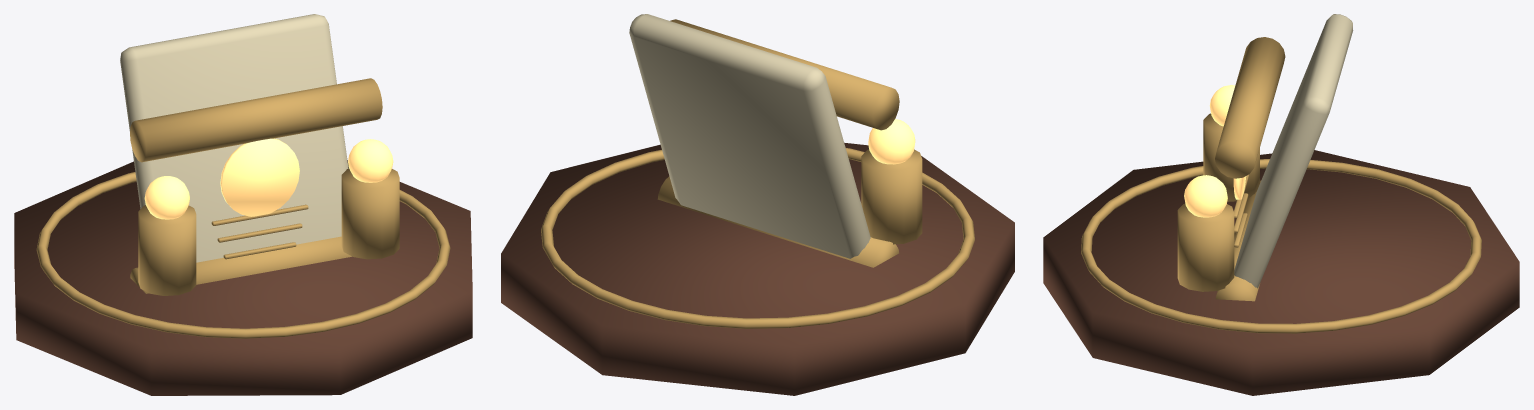
The picture shows the model from 3 angles, left to right: view 1: azimuth 30°, elevation 25°; view 2: azimuth 150°, elevation 25°; view 3: azimuth 270°, elevation 25°; orthographic projection. The views are drawn at different scales.
Parts seen in each view (by area): view 1: Hexagonal plinth, Parchment, Binding.001, Inlaid rim, 3B embossed seal, Tactical token, Tactical token.001, Binding, Tactical head, Tactical head.001, Embossed line, Embossed line.001 (+1 smaller); view 2: Hexagonal plinth, Parchment, Inlaid rim, Tactical token, Binding.001, Tactical head, Binding; view 3: Hexagonal plinth, Parchment, Inlaid rim, Binding.001, Tactical token.001, Tactical token, Tactical head.001, Binding, Tactical head.
Part boxes in pixels (box(x1,y1,x2,y2)): Hexagonal plinth: box(14, 160, 472, 395); Parchment: box(120, 14, 348, 262); Binding.001: box(130, 78, 382, 162); Inlaid rim: box(36, 172, 450, 338); 3B embossed seal: box(220, 138, 299, 216); Tactical token: box(138, 205, 196, 295); Tactical token.001: box(341, 168, 399, 259); Binding: box(130, 236, 351, 293); Tactical head: box(144, 176, 189, 219); Tactical head.001: box(348, 139, 393, 182); Embossed line: box(211, 204, 308, 225); Embossed line.001: box(217, 223, 302, 242); Hexagonal plinth: box(501, 142, 1014, 395); Parchment: box(629, 14, 870, 258); Inlaid rim: box(541, 148, 974, 328); Tactical token: box(861, 149, 922, 244); Binding.001: box(670, 19, 899, 130); Tactical head: box(868, 119, 915, 164); Binding: box(657, 176, 898, 267); Hexagonal plinth: box(1043, 150, 1519, 395); Parchment: box(1234, 14, 1353, 288); Inlaid rim: box(1081, 159, 1481, 333); Binding.001: box(1215, 37, 1285, 178); Tactical token.001: box(1177, 203, 1234, 291); Tactical token: box(1203, 113, 1259, 201); Tactical head.001: box(1184, 175, 1227, 217); Binding: box(1215, 180, 1261, 301); Tactical head: box(1209, 85, 1235, 126).
Size of the model in its own units: 1.51 by 0.8899 by 1.51.
